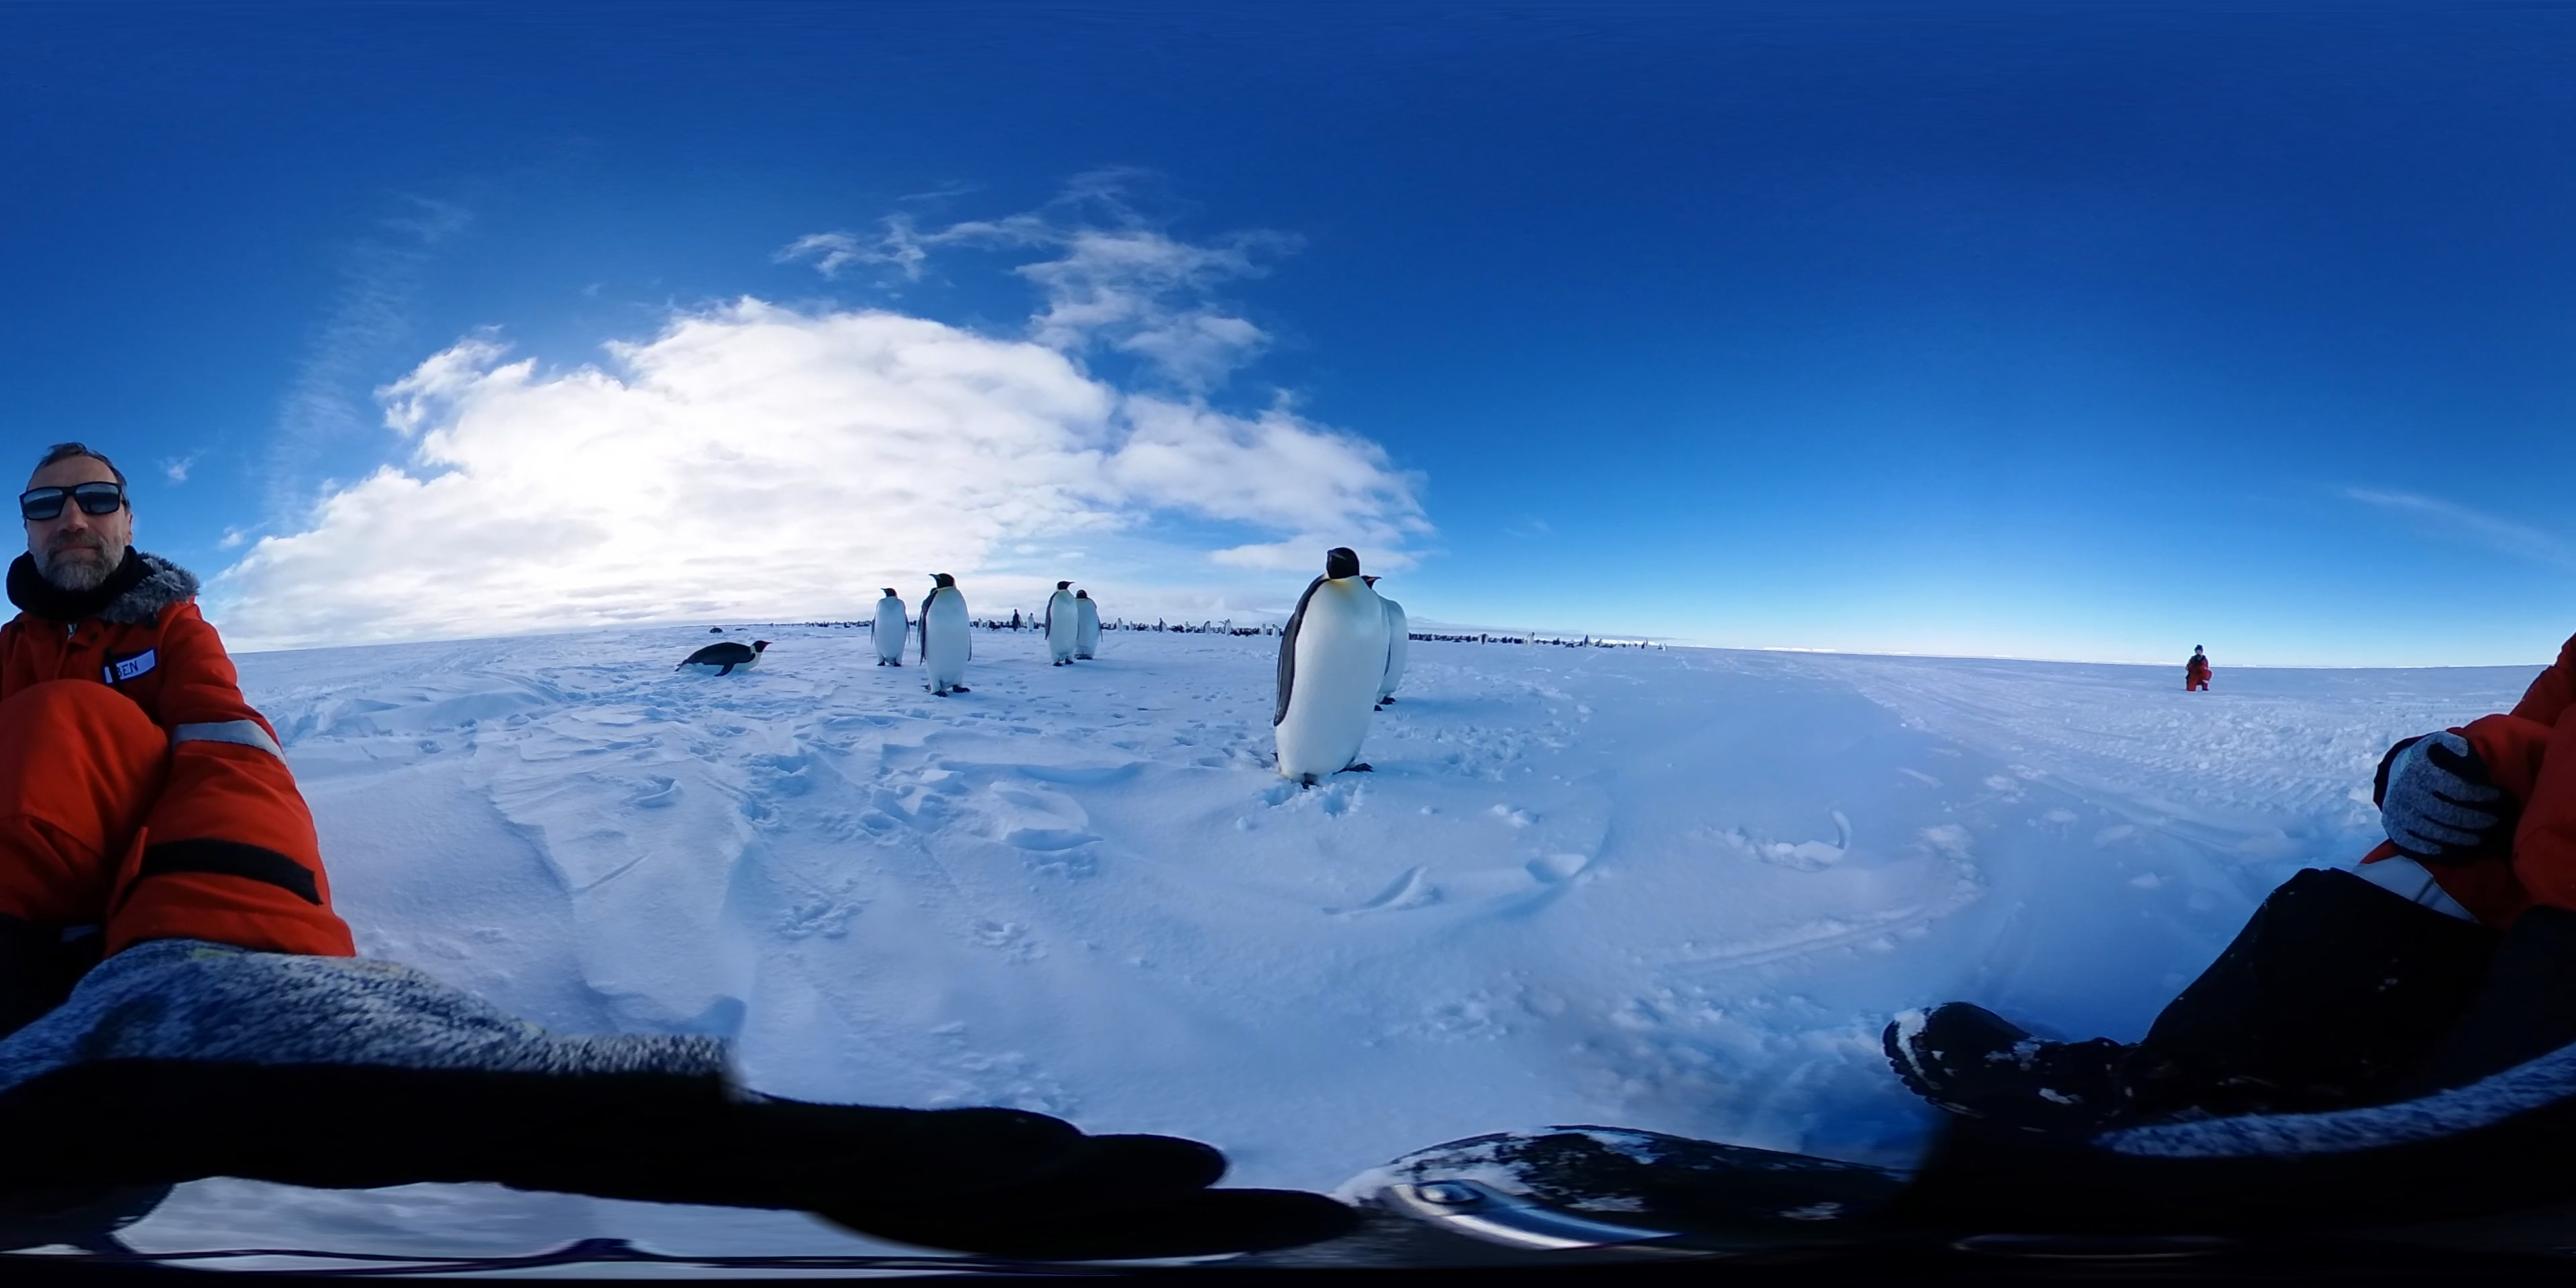adult_standing_penguin: (1270, 540, 1383, 797), (918, 567, 976, 710), (866, 585, 915, 670), (1040, 578, 1074, 670), (1069, 588, 1104, 660)
adult_toboggan_penguin: (670, 636, 779, 680)
researcher: (1871, 611, 2576, 1125), (0, 444, 370, 1002), (2183, 644, 2213, 697)
